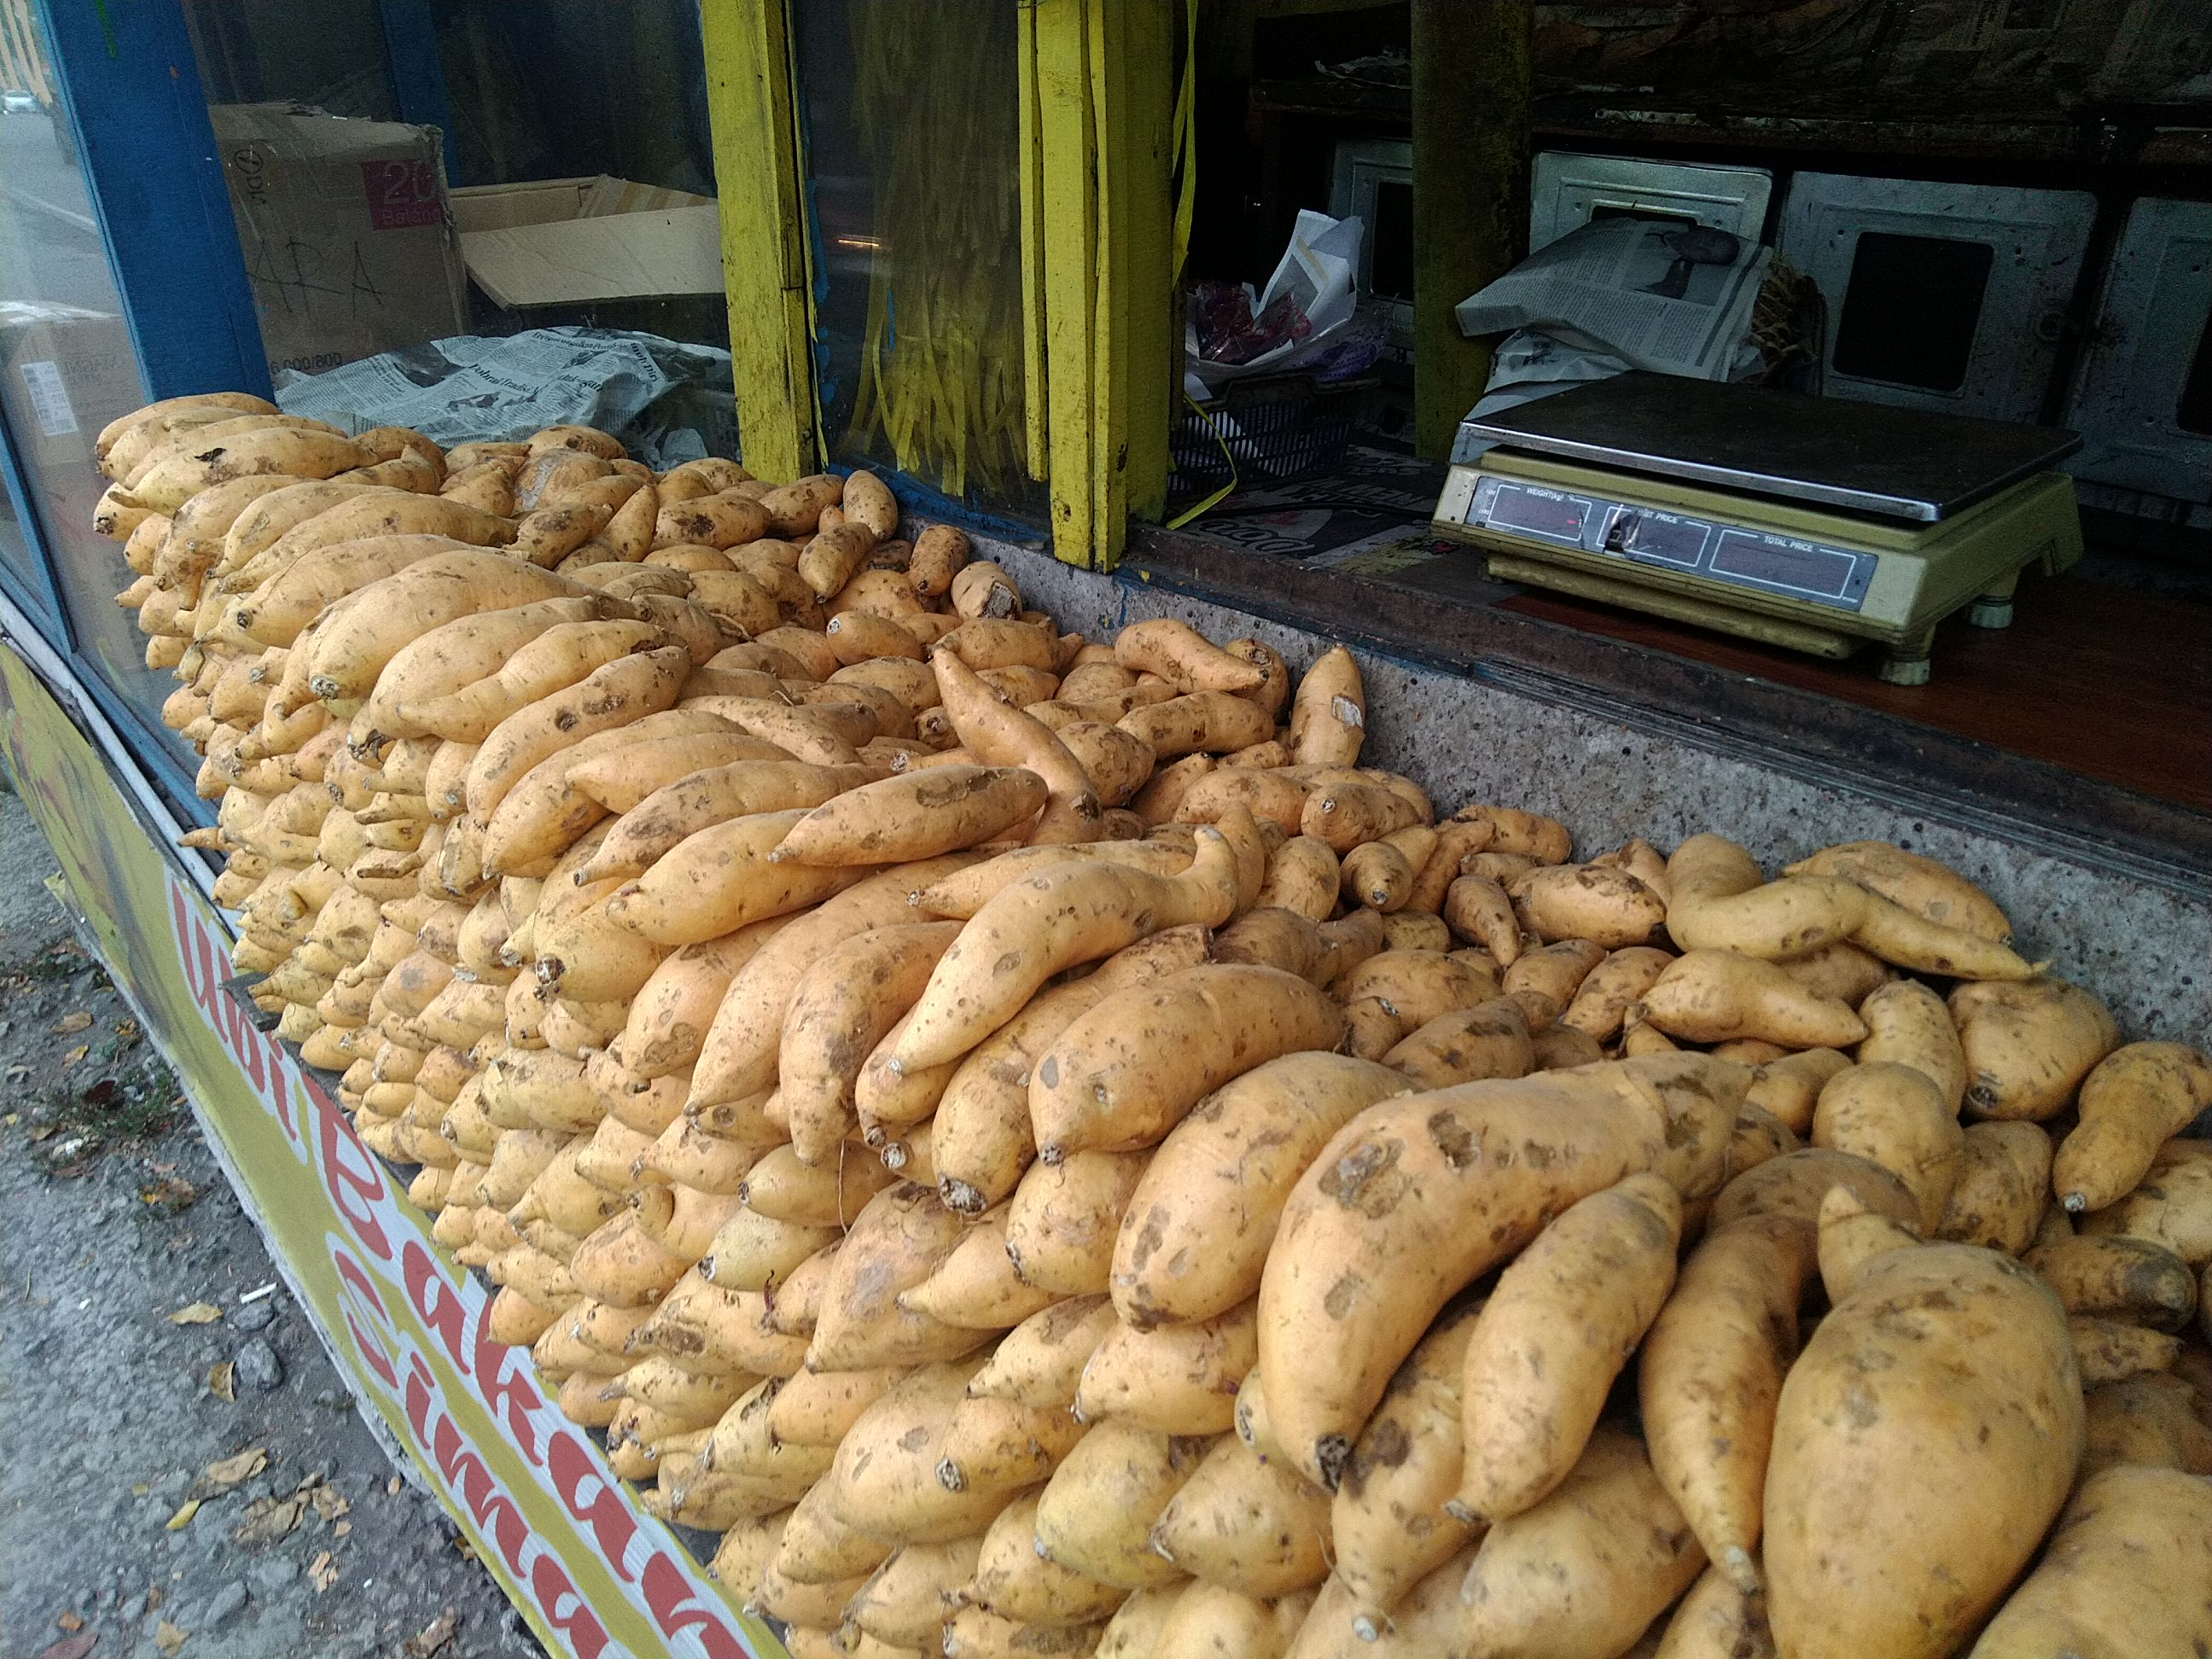ubi cilembu: (87, 387, 2209, 1659), (1264, 1033, 1662, 1507), (1764, 1185, 2097, 1657), (1435, 1161, 1710, 1539), (883, 821, 1261, 1093), (1658, 816, 2048, 995), (399, 596, 678, 749), (759, 749, 1069, 878), (925, 638, 1109, 829), (2043, 1032, 2212, 1218), (1630, 939, 1867, 1065), (105, 430, 369, 525), (1106, 610, 1264, 701), (1284, 633, 1374, 782), (902, 504, 989, 608), (796, 509, 881, 598), (836, 457, 897, 538)
